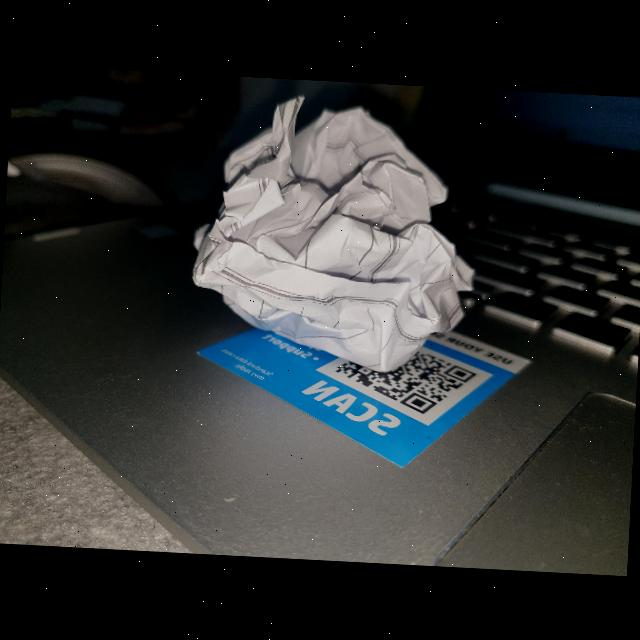trash: (172, 73, 480, 383)
